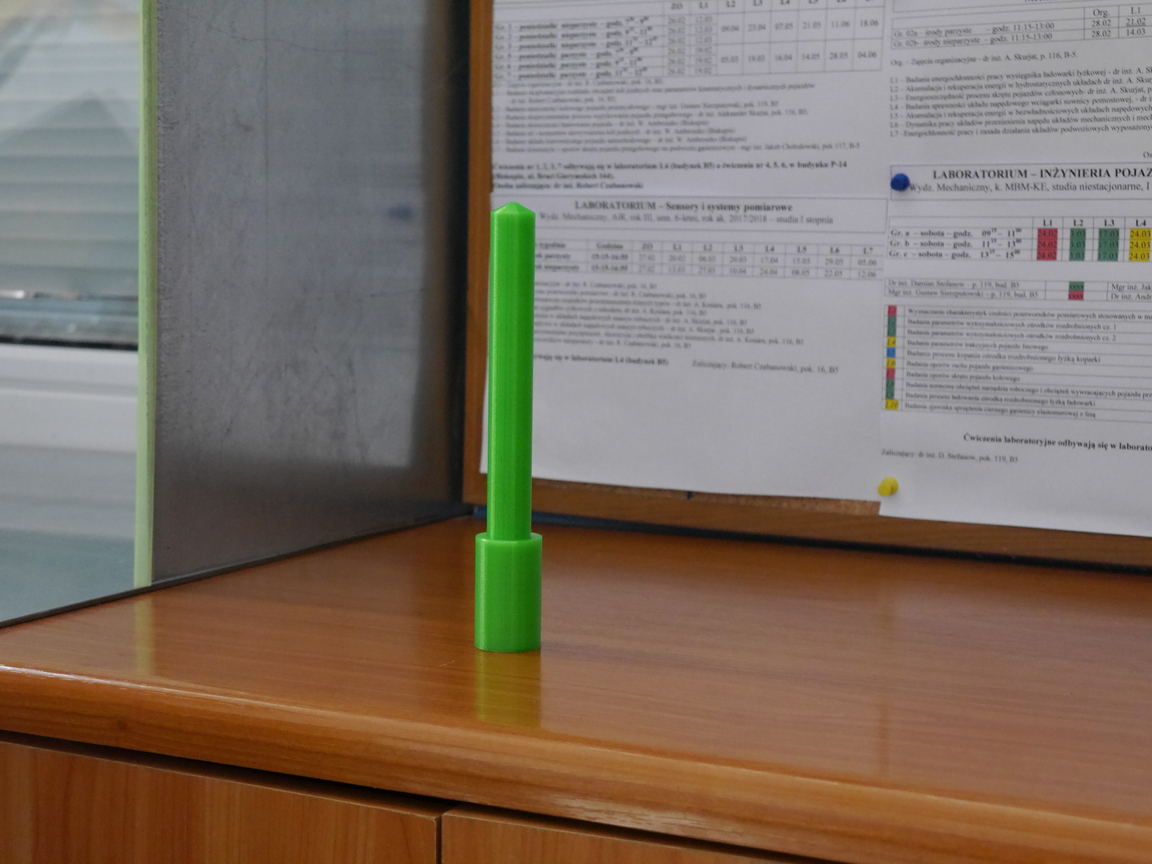cargo_g: (476, 201, 539, 653)
